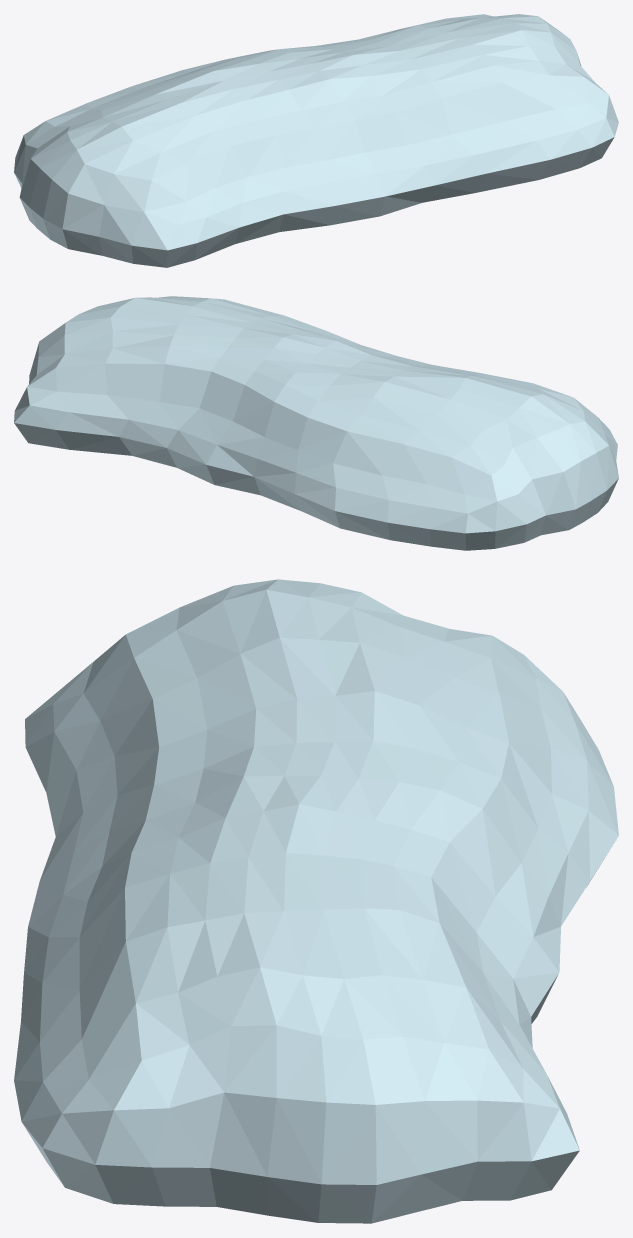
File: SM_Env_Dirt_Mound_02_Snow.fbx
The picture shows the model from 3 angles, top to bottom: view 1: azimuth 30°, elevation 25°; view 2: azimuth 150°, elevation 25°; view 3: azimuth 270°, elevation 25°; orthographic projection. The views are drawn at different scales.
Parts seen in each view (by area): view 1: SM_Env_Dirt_Mound_02_Snow; view 2: SM_Env_Dirt_Mound_02_Snow; view 3: SM_Env_Dirt_Mound_02_Snow.
Boxes of the visible parts, <box> form: SM_Env_Dirt_Mound_02_Snow: <box>14,14,618,267</box>; SM_Env_Dirt_Mound_02_Snow: <box>14,296,618,550</box>; SM_Env_Dirt_Mound_02_Snow: <box>14,579,618,1223</box>.
Size of the model in its own units: 1400 by 255 by 683.
